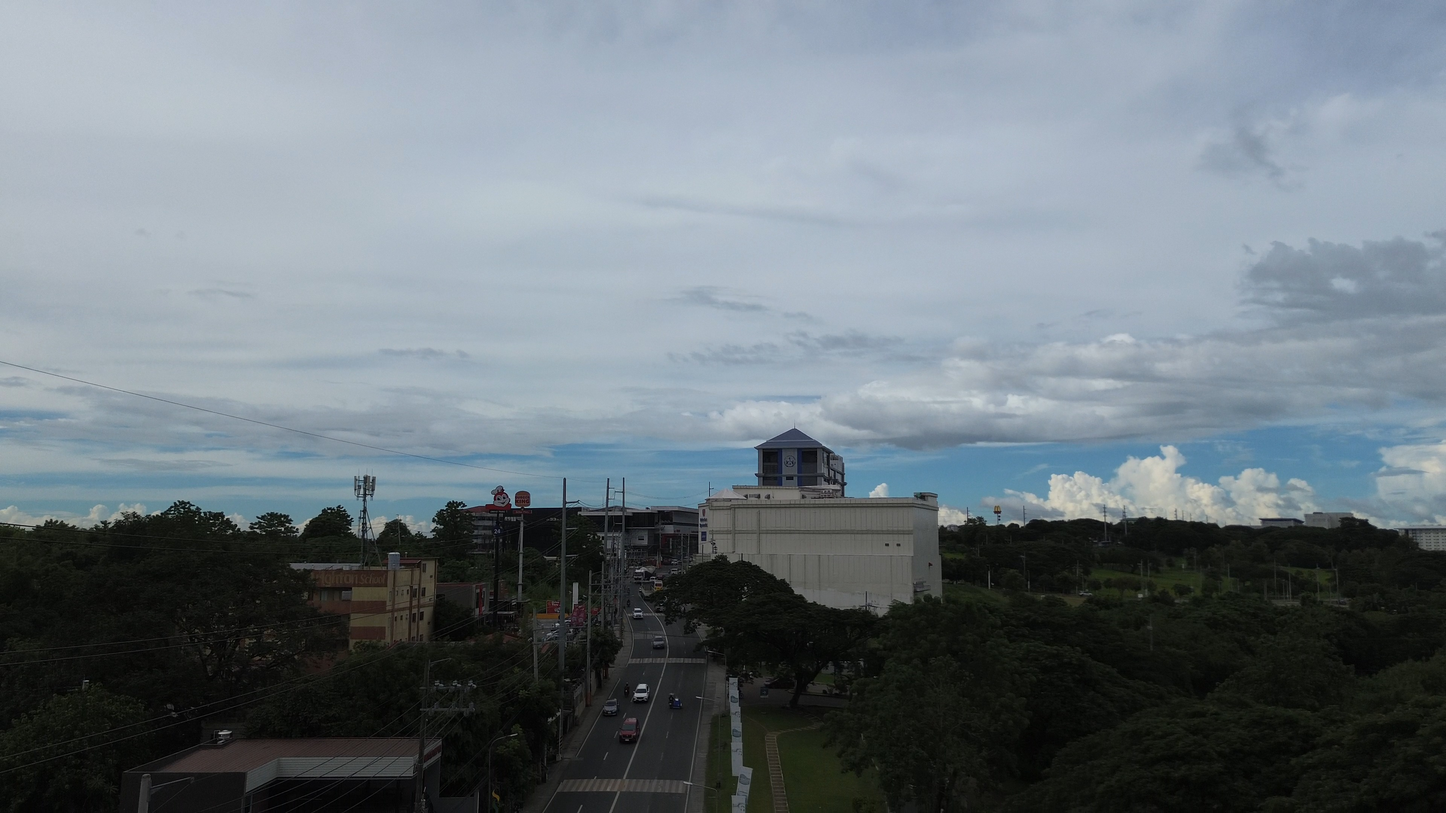car: (619, 717, 640, 743), (601, 699, 619, 716), (633, 684, 650, 702), (652, 635, 666, 649), (632, 607, 644, 620)
vehicle: (668, 694, 682, 709)
